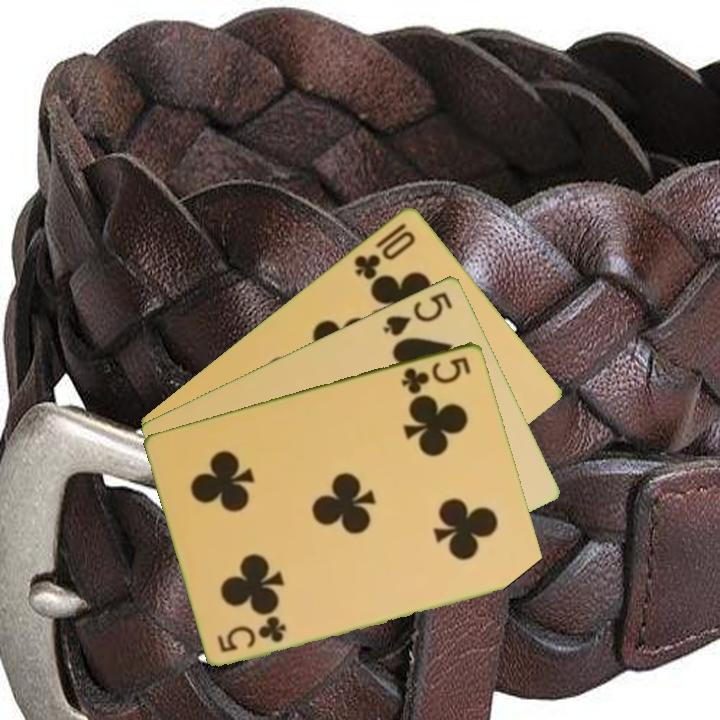10c: (350, 219, 419, 283)
5c: (398, 352, 474, 397), (213, 614, 290, 655)
5s: (380, 288, 456, 339)
